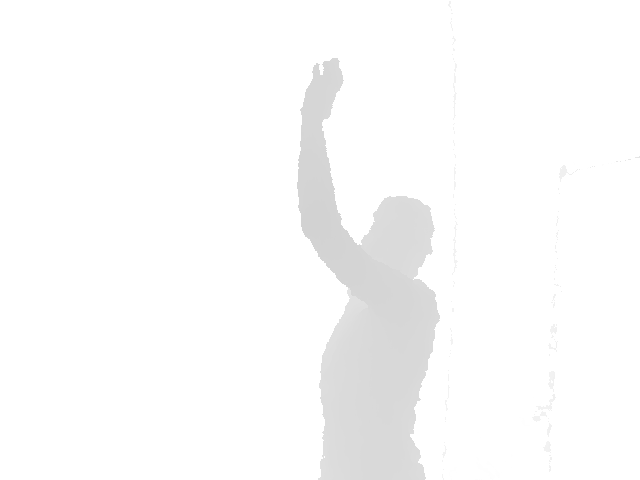hand: (300, 56, 344, 121)
head: (359, 194, 437, 280)
person: (296, 56, 443, 479)
